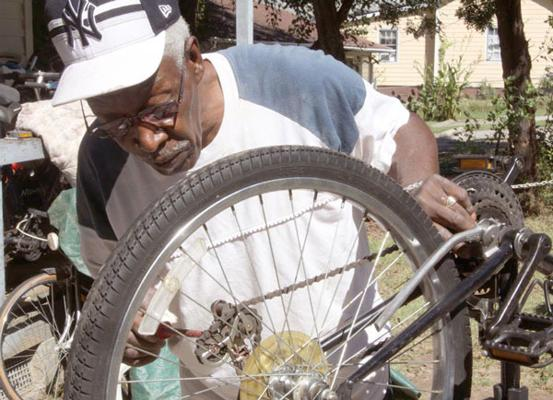person: (46, 1, 477, 400)
